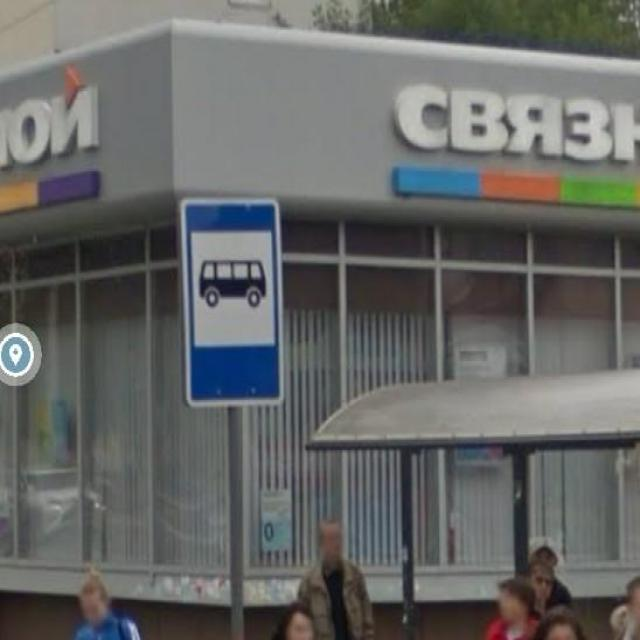traffic_sign: (178, 196, 288, 411)
